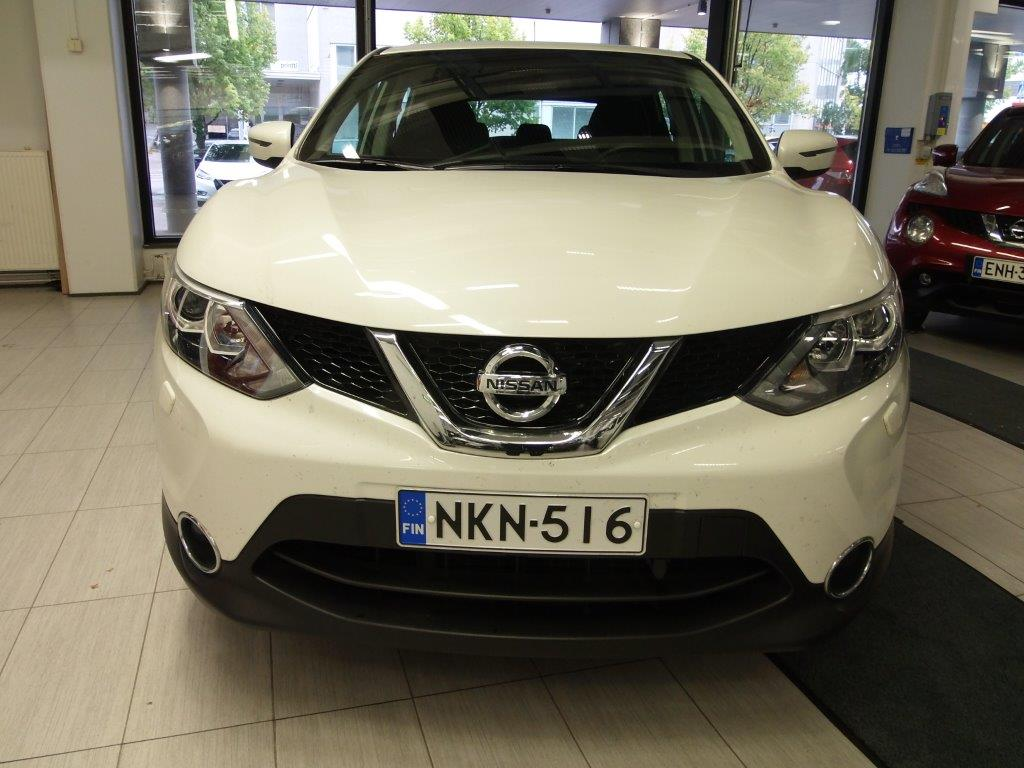license: (394, 490, 643, 559)
